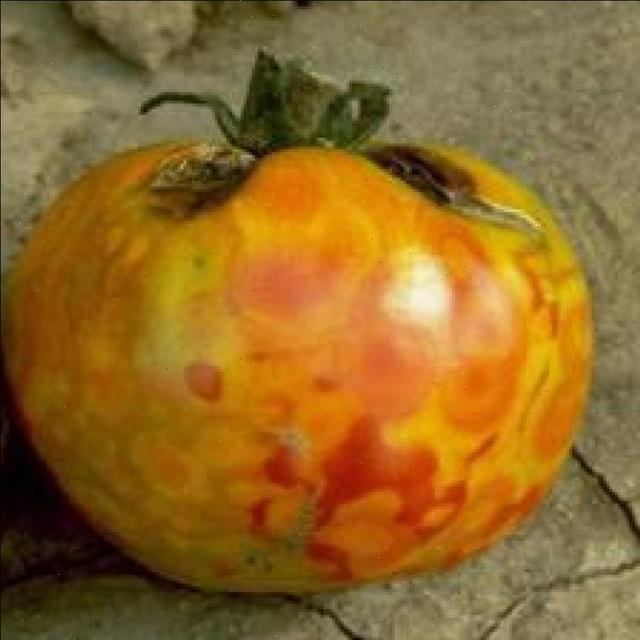Spotted wilt Virus Fruit: (1, 96, 397, 396)
